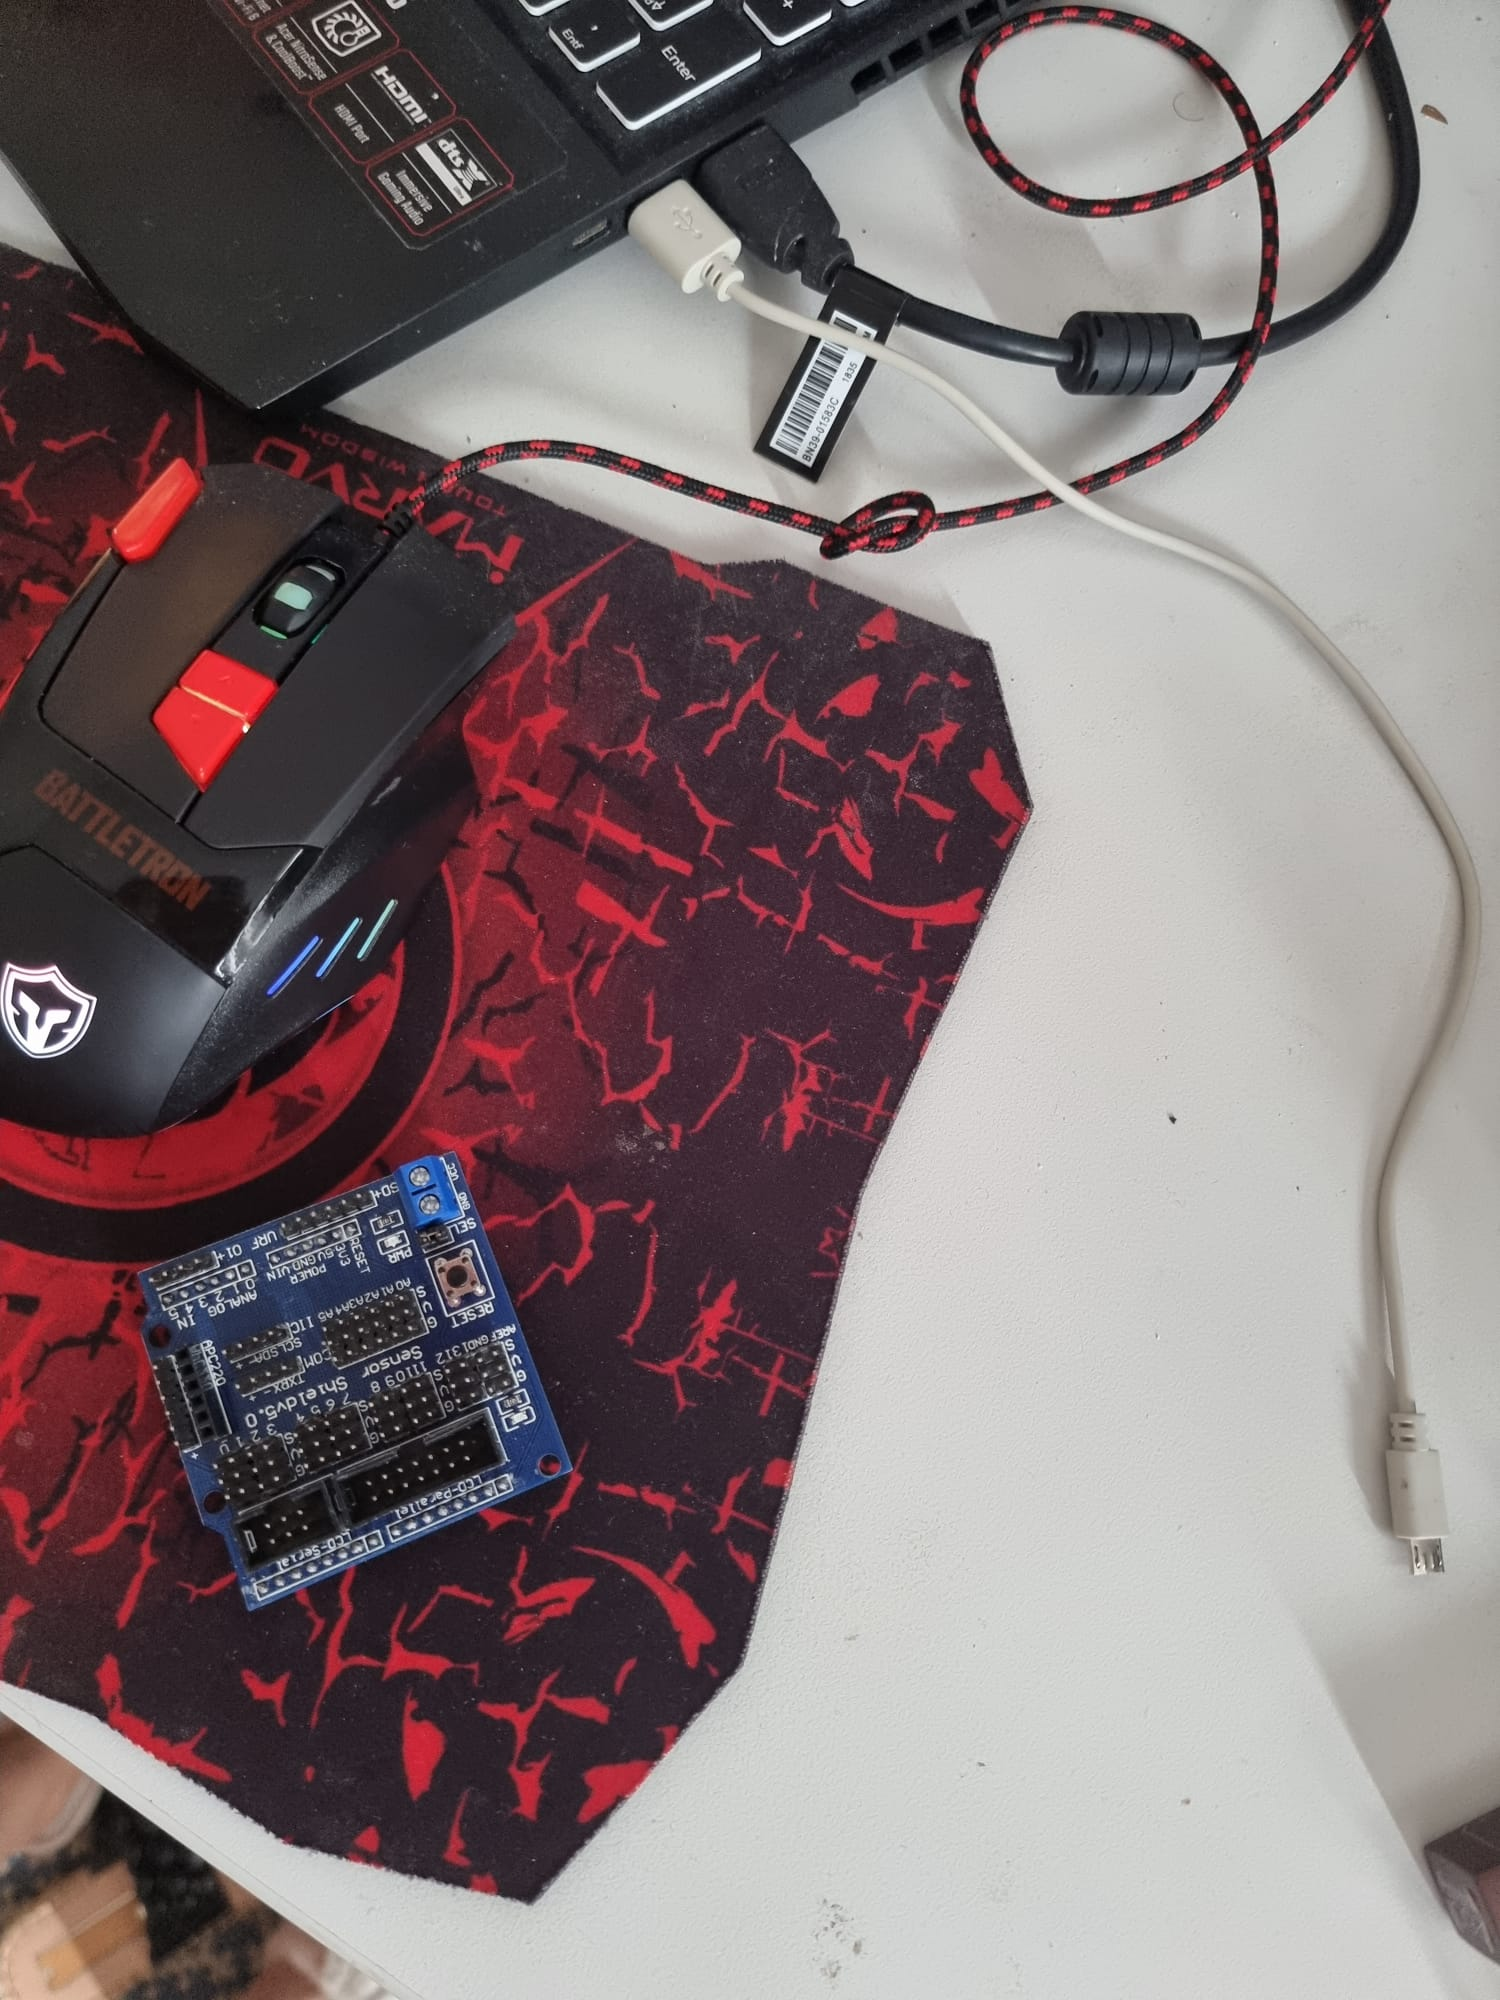5V EXPANSION: (98, 1148, 588, 1620)
